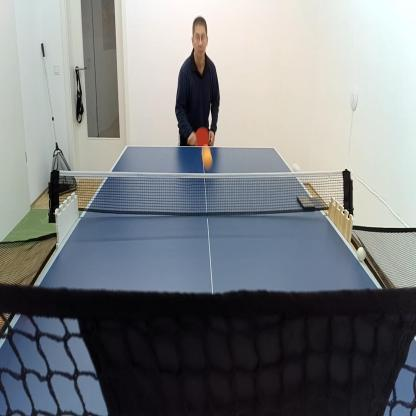Ball: (202, 143, 212, 168), (358, 247, 366, 260), (292, 164, 298, 174)
